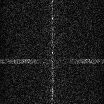wifi: (1, 58, 104, 63)
